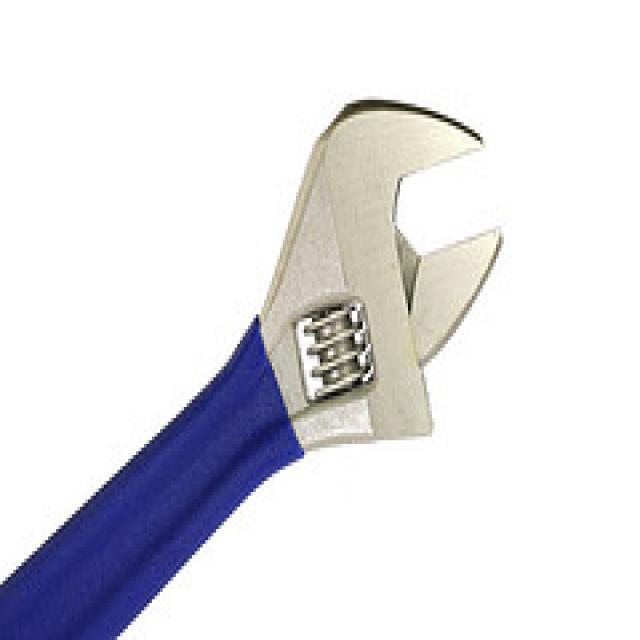wrench: (0, 59, 515, 636)
